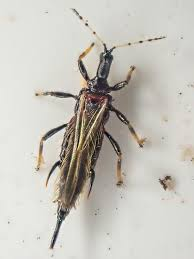Phlaeothripidae: (34, 9, 167, 251)
